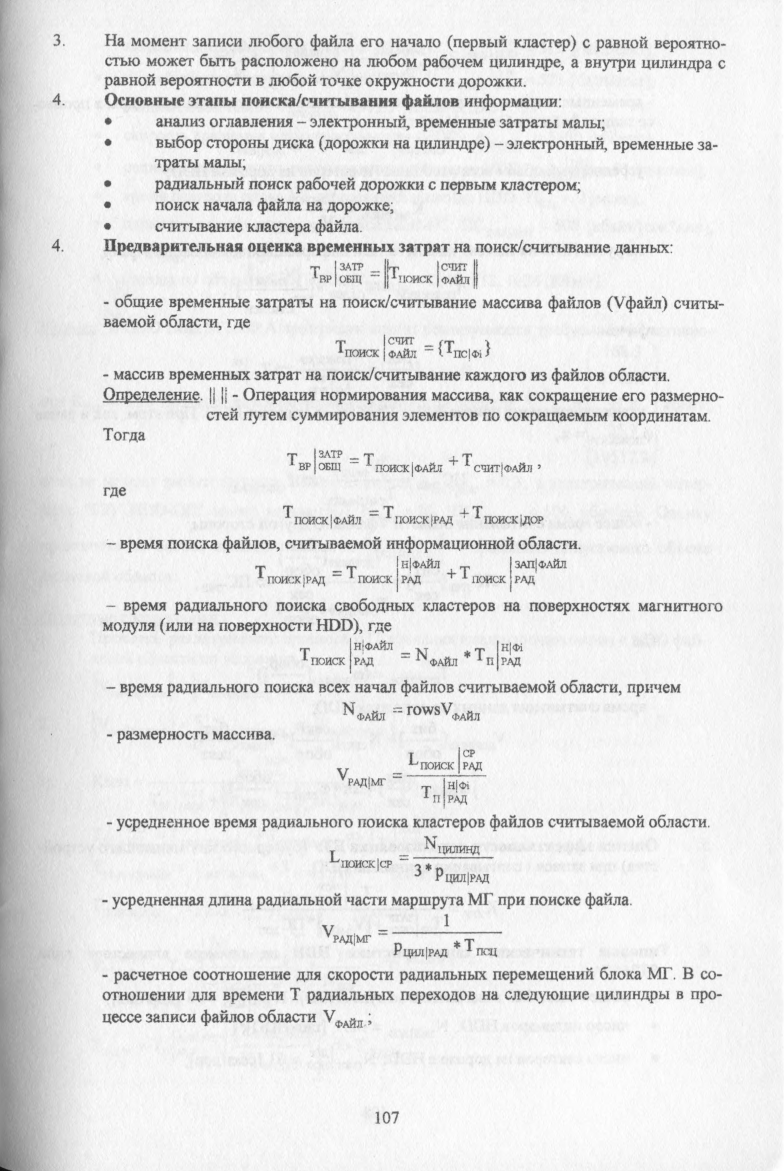L.поиск.ср: (327, 845, 396, 869)
L.поиск.ср.рад: (405, 744, 488, 773)
N.файл: (412, 642, 460, 670), (339, 702, 388, 724)
N.цилиндр: (423, 833, 481, 855)
T.вр.затр.общ: (285, 442, 346, 474), (307, 260, 372, 289)
T.п.н.Фi.рад: (474, 639, 528, 670), (422, 780, 470, 804)
T.поиск.дор: (470, 501, 542, 530)
T.поиск.зап.файл.рад: (458, 553, 570, 590)
T.поиск.н.файл.рад: (342, 557, 442, 591), (298, 640, 393, 674)
T.поиск.рад: (251, 559, 329, 591), (381, 502, 456, 528)
T.поиск.счит.файл: (332, 329, 424, 363), (390, 258, 470, 292)
T.поиск.файл: (281, 499, 363, 529), (363, 446, 442, 476)
T.пс.Фi: (442, 334, 480, 363)
T.псц: (464, 938, 503, 958)
T.счит.файл: (460, 447, 535, 480)
V.рад.мг: (317, 917, 372, 947), (334, 763, 388, 790)
V.файл: (441, 698, 489, 725)
group: (247, 550, 574, 594), (280, 440, 537, 481), (331, 744, 489, 806), (325, 832, 496, 888), (278, 497, 549, 532), (316, 911, 505, 960), (294, 637, 530, 675), (329, 327, 493, 366), (304, 257, 479, 292), (339, 696, 496, 727)
p.цил.рад: (391, 938, 451, 961), (435, 865, 492, 886)
